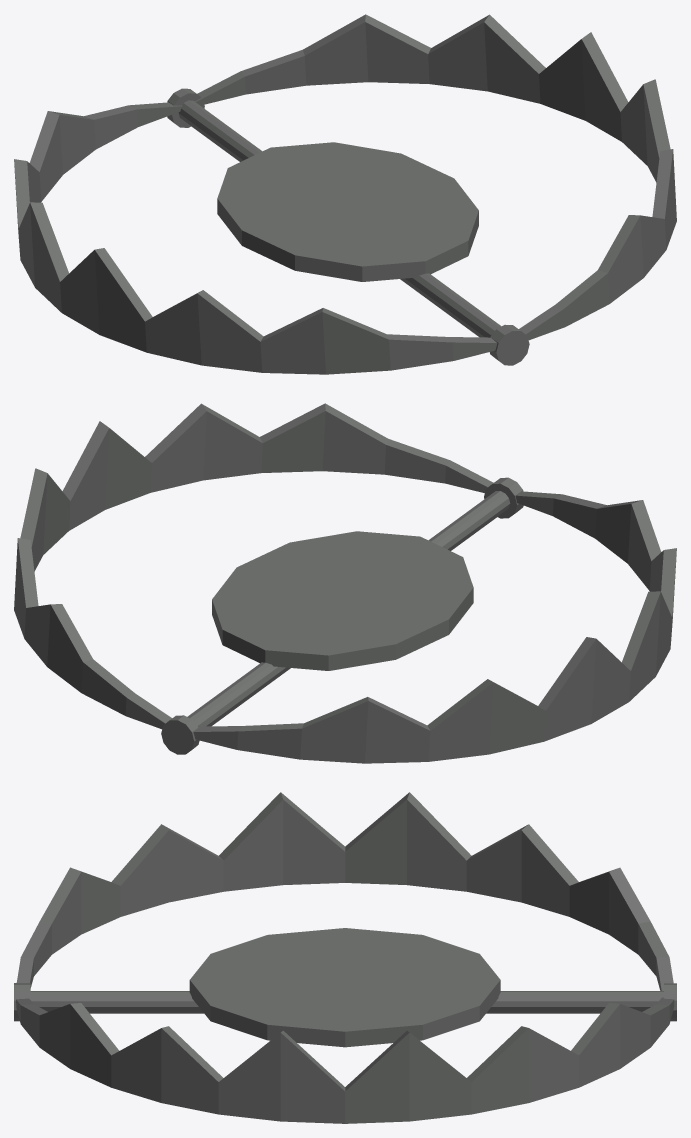
Rendered from trap.fbx.
3 renders of one model, top to bottom at view 1: azimuth 30°, elevation 25°; view 2: azimuth 150°, elevation 25°; view 3: azimuth 270°, elevation 25°, orthographic.
Visible parts, largest first — view 1: Trap1, Trap2, Plate; view 2: Trap1, Trap2, Plate; view 3: Trap1, Trap2, Plate.
Boxes of the visible parts, bbox=[...] form: Trap1: bbox=[14, 88, 529, 374]; Trap2: bbox=[195, 14, 676, 340]; Plate: bbox=[217, 142, 478, 281]; Trap1: bbox=[161, 477, 676, 763]; Trap2: bbox=[14, 403, 493, 729]; Plate: bbox=[212, 531, 473, 670]; Trap1: bbox=[14, 792, 676, 1021]; Trap2: bbox=[16, 997, 674, 1123]; Plate: bbox=[189, 928, 500, 1047].
Size of the model in its own units: 200 by 40.68 by 200.
